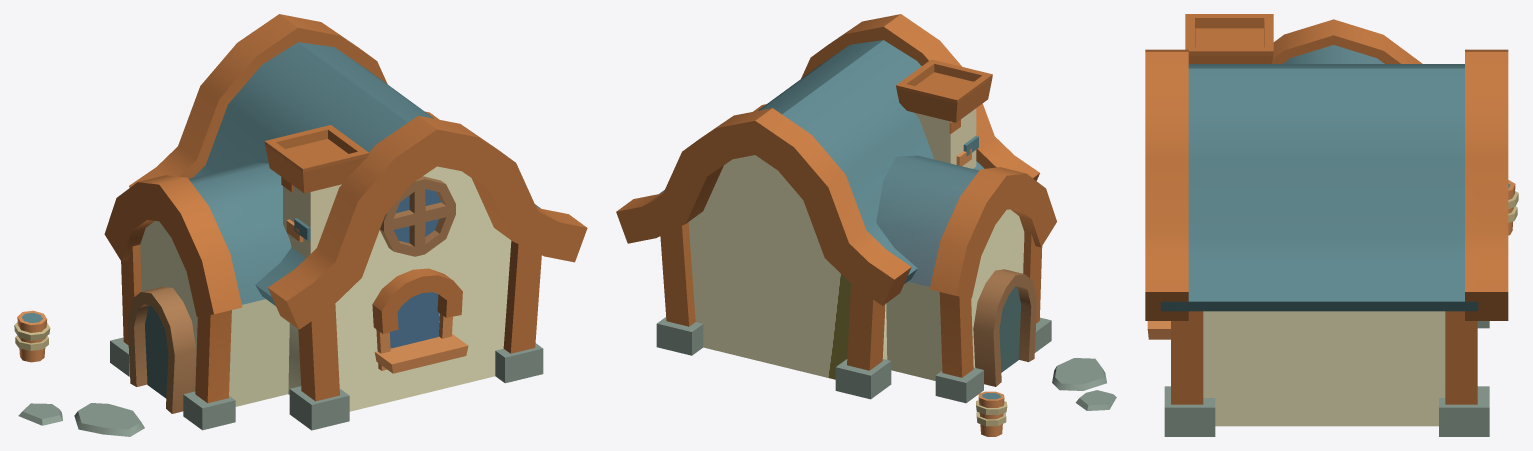
Rendered from Home_03.fbx.
3 renders of one model, left to right at view 1: azimuth 30°, elevation 25°; view 2: azimuth 150°, elevation 25°; view 3: azimuth 270°, elevation 25°, orthographic. The views are drawn at different scales.
Parts seen in each view (by area): view 1: Home_03; view 2: Home_03; view 3: Home_03.
Part boxes in pixels (x1,y1,x2,y2): Home_03: (14,14,587,436); Home_03: (616,14,1116,436); Home_03: (1145,14,1518,436).
Bounding box in the file's own units: 994 × 563 × 591.
